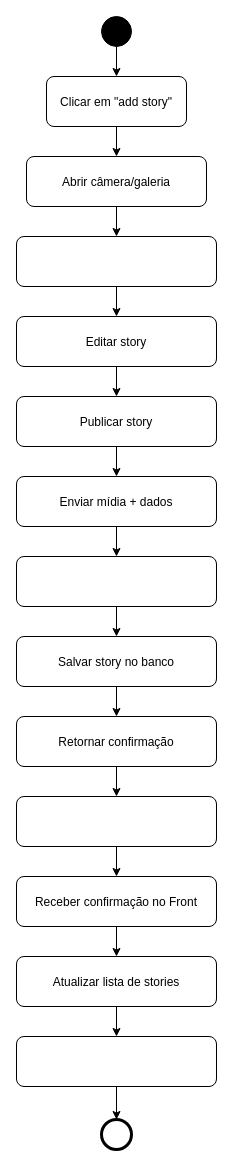
Some shapes in this 233 by 1166 pixel diagram are drawn without their labels. Here are the shapes that lost their labels. From the top down, the centre of each, then its label:
At point 116,261: "Capturar imagem/vídeo".
At point 116,581: "Processar story".
At point 116,821: "Retornar status de sucesso".
At point 116,1061: "Exibir story publicado".
